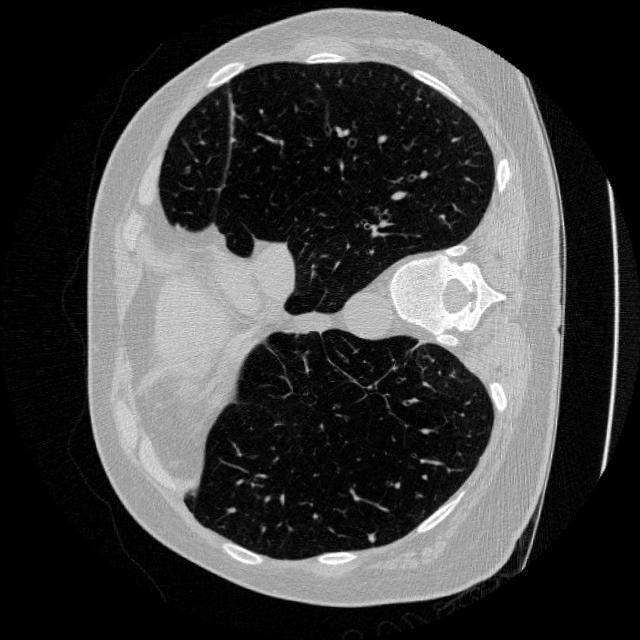nodule: (357, 523, 383, 549)
